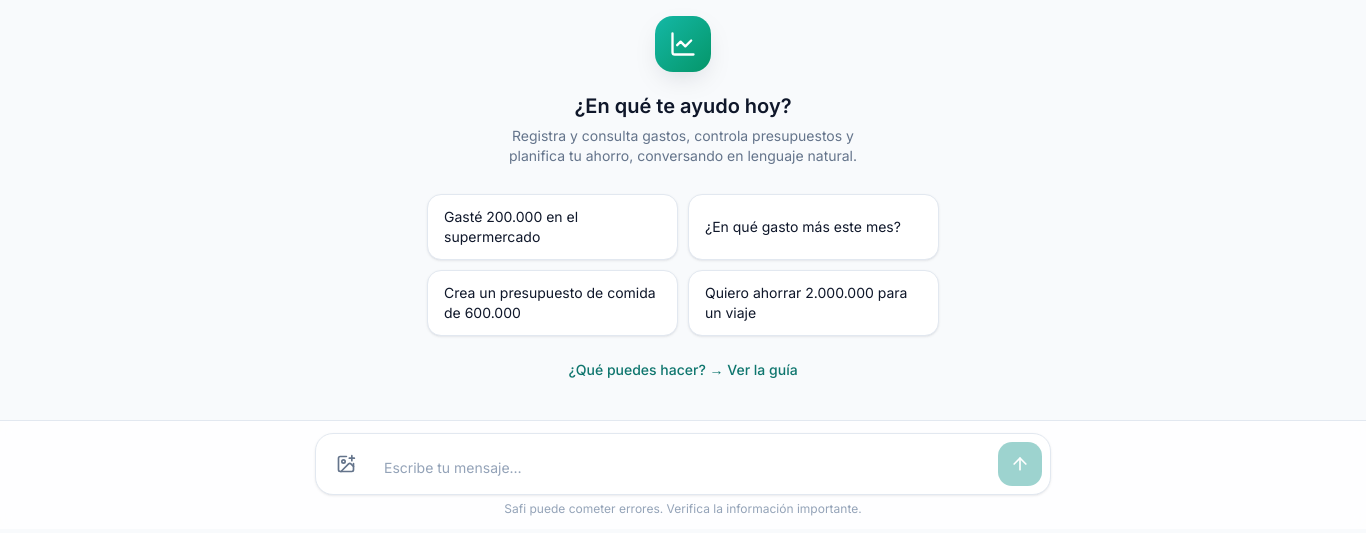
ChatView › fills the input when a suggestion chip is clicked
Click the button "Gasté 200.000 en el supermercado". click: click(552, 227)
box: [427,194,678,260]
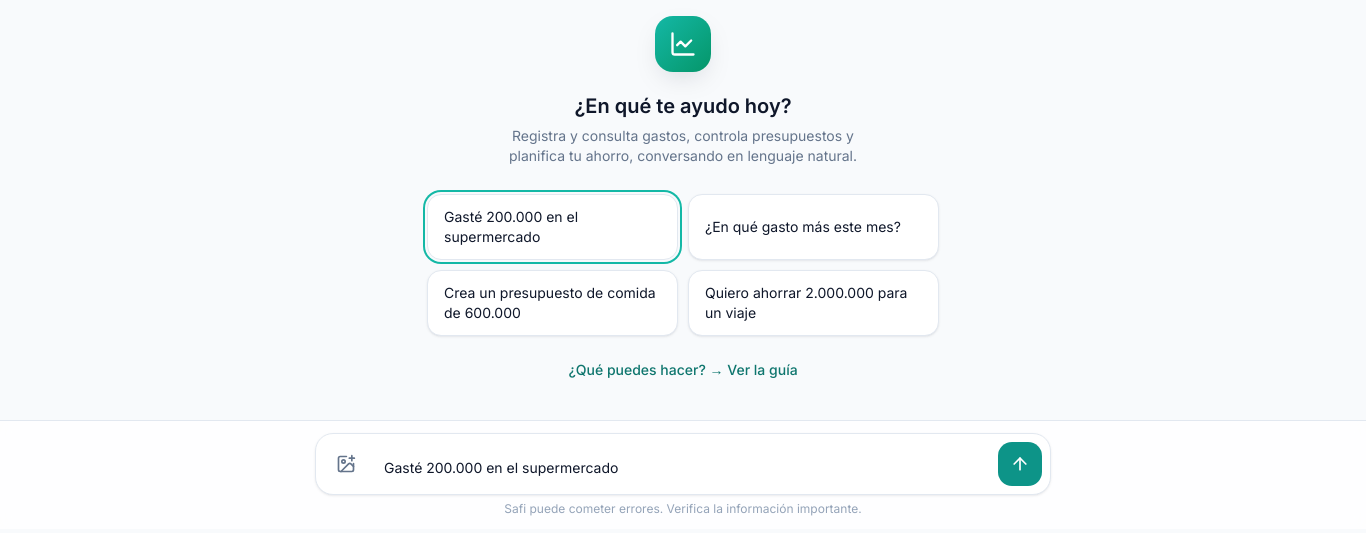
Now the text box holds "Gasté 200.000 en el supermercado", box [376,450,990,486]
